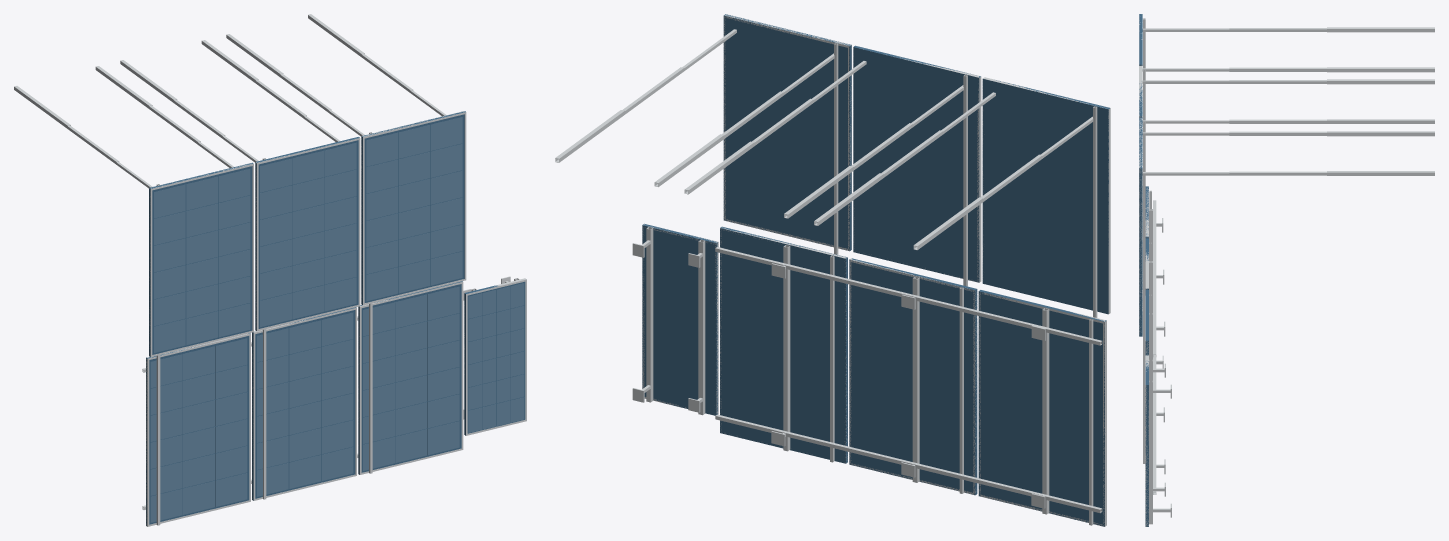
Rendered from cobertura_aberta.glb.
3 views of the same model, side by side, from view 1: azimuth 30°, elevation 25°; view 2: azimuth 150°, elevation 25°; view 3: azimuth 270°, elevation 25° (orthographic). The views are drawn at different scales.
Visible parts, largest first — view 1: solar_movel__113_modulo450W, solar_movel__215_modulo450W, solar_movel__164_modulo450W, solar_fixo__59_modulo450W, solar_fixo__86_modulo450W, solar_fixo__32_modulo450W, solar_cabine__266_modulo190W, solar_fixo__52_celulas, solar_fixo__81_celulas, solar_fixo__99_celulas, solar_fixo__102_celulas, solar_fixo__106_celulas (+104 smaller); view 2: solar_movel__113_modulo450W, solar_movel__164_modulo450W, solar_movel__215_modulo450W, solar_fixo__59_modulo450W, solar_fixo__86_modulo450W, solar_fixo__32_modulo450W, solar_cabine__266_modulo190W, suportes__2_longarina_30x30x3_2, suportes__6_longarina_30x30x3_2, suportes__1_longarina_30x30x3_1, suportes__5_longarina_30x30x3_1, suportes__26_travessa_40x40x3_2 (+12 smaller); view 3: suportes__239_guia_corredica_1, solar_movel__215_modulo450W, suportes__5_longarina_30x30x3_1, solar_cabine__266_modulo190W, suportes__304_travessa_cabine_1, apoios_solo__153_perna_telescopica_1, apoios_solo__243_perna_telescopica_1, suportes__1_longarina_30x30x3_1, apoios_solo__141_perna_telescopica_1, apoios_solo__192_perna_telescopica_1, apoios_solo__204_perna_telescopica_1, apoios_solo__255_perna_telescopica_1.
Part boxes in pixels (x1,y1,x2,y2): solar_movel__113_modulo450W: [149, 162, 253, 356]; solar_movel__215_modulo450W: [361, 111, 465, 304]; solar_movel__164_modulo450W: [255, 137, 359, 330]; solar_fixo__59_modulo450W: [252, 307, 356, 500]; solar_fixo__86_modulo450W: [358, 281, 462, 474]; solar_fixo__32_modulo450W: [146, 333, 250, 525]; solar_cabine__266_modulo190W: [464, 281, 525, 435]; solar_fixo__52_celulas: [215, 392, 247, 426]; solar_fixo__81_celulas: [321, 312, 353, 346]; solar_fixo__99_celulas: [395, 375, 427, 409]; solar_fixo__102_celulas: [395, 294, 427, 328]; solar_fixo__106_celulas: [427, 340, 459, 374]; solar_movel__113_modulo450W: [982, 79, 1109, 314]; solar_movel__164_modulo450W: [853, 45, 980, 282]; solar_movel__215_modulo450W: [723, 14, 851, 251]; solar_fixo__59_modulo450W: [849, 258, 977, 495]; solar_fixo__86_modulo450W: [720, 226, 847, 463]; solar_fixo__32_modulo450W: [978, 290, 1106, 526]; solar_cabine__266_modulo190W: [642, 224, 718, 415]; suportes__2_longarina_30x30x3_2: [715, 416, 1100, 512]; suportes__6_longarina_30x30x3_2: [715, 248, 1100, 345]; suportes__1_longarina_30x30x3_1: [715, 414, 1102, 509]; suportes__5_longarina_30x30x3_1: [715, 247, 1101, 342]; suportes__26_travessa_40x40x3_2: [783, 246, 787, 450]; suportes__239_guia_corredica_1: [1143, 123, 1145, 463]; solar_movel__215_modulo450W: [1139, 117, 1142, 336]; suportes__5_longarina_30x30x3_1: [1153, 200, 1156, 354]; solar_cabine__266_modulo190W: [1145, 355, 1148, 526]; suportes__304_travessa_cabine_1: [1149, 382, 1152, 524]; apoios_solo__153_perna_telescopica_1: [1327, 68, 1434, 72]; apoios_solo__243_perna_telescopica_1: [1327, 132, 1434, 136]; suportes__1_longarina_30x30x3_1: [1153, 357, 1156, 492]; apoios_solo__141_perna_telescopica_1: [1327, 29, 1434, 32]; apoios_solo__192_perna_telescopica_1: [1327, 81, 1434, 84]; apoios_solo__204_perna_telescopica_1: [1327, 120, 1434, 123]; apoios_solo__255_perna_telescopica_1: [1327, 172, 1434, 175].
Bounding box in the file's own units: 4.16 × 3.56 × 2.81.
